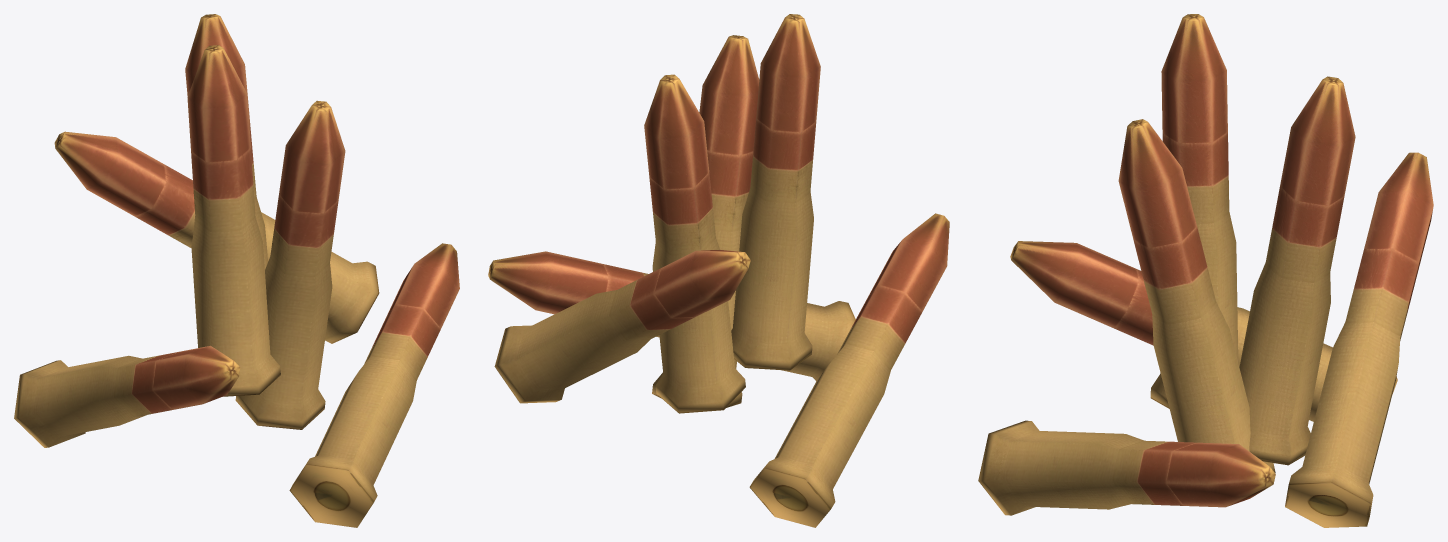
Rendered from Bullet.fbx.
3 views of the same model, side by side, from view 1: azimuth 30°, elevation 25°; view 2: azimuth 150°, elevation 25°; view 3: azimuth 270°, elevation 25° (orthographic). The views are drawn at different scales.
Visible parts, largest first — view 1: Bullet; view 2: Bullet; view 3: Bullet.
Part boxes in pixels (x1,y1,x2,y2): Bullet: (14,14,459,527); Bullet: (488,14,949,527); Bullet: (978,14,1433,527).
Bounding box in the file's own units: 58.75 × 61.78 × 54.33.
